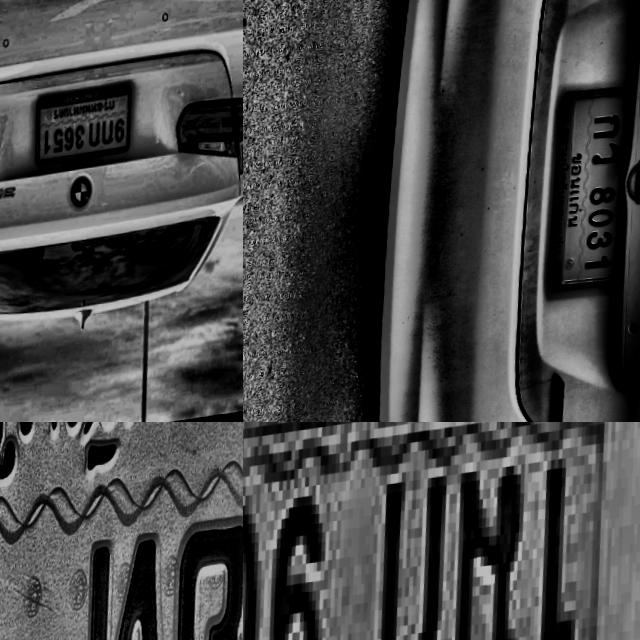license-plate: (243, 422, 640, 640), (0, 422, 243, 640), (523, 163, 640, 291), (34, 86, 145, 177)
